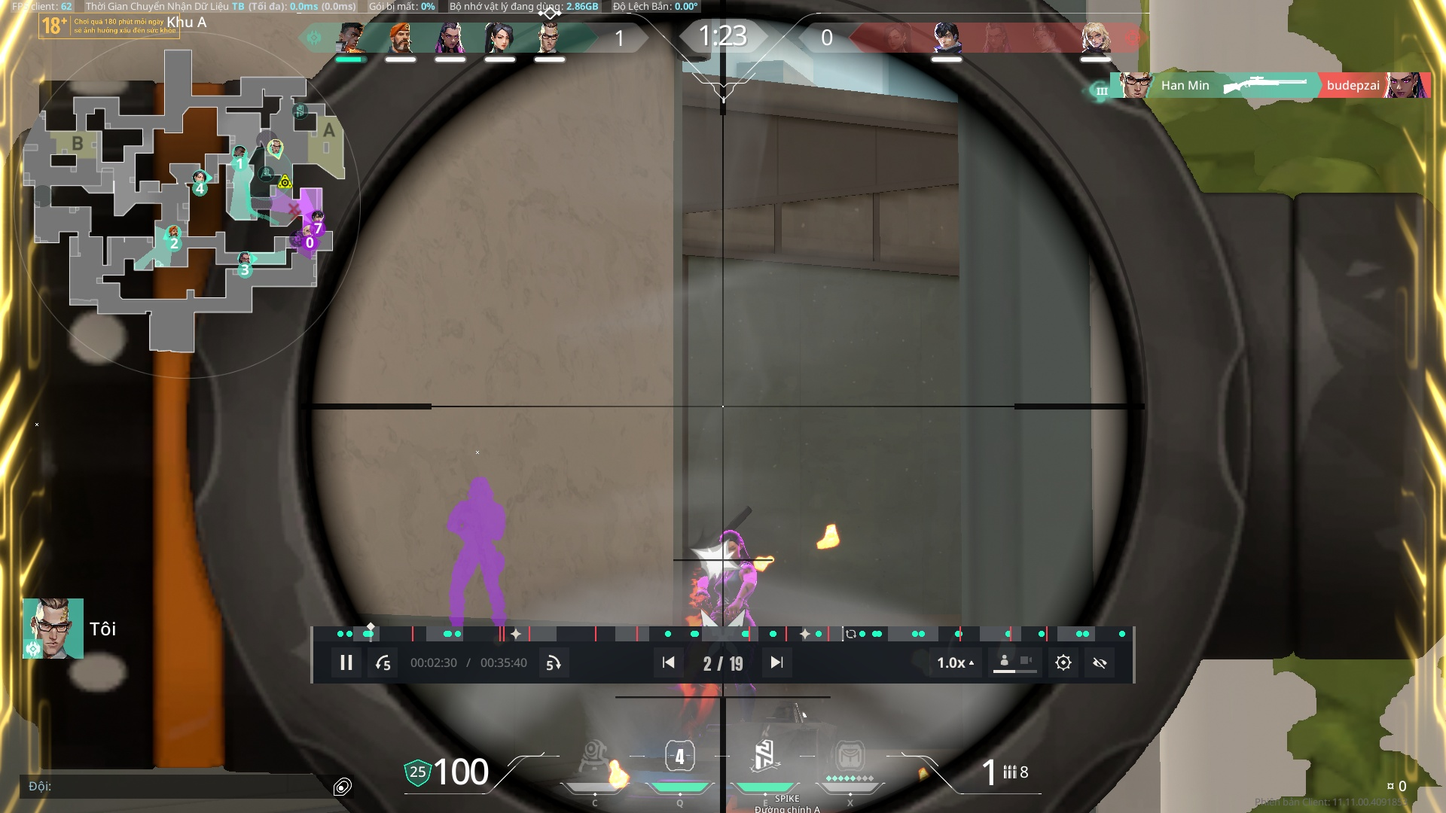body: (700, 557, 756, 626)
head: (718, 529, 744, 555)
